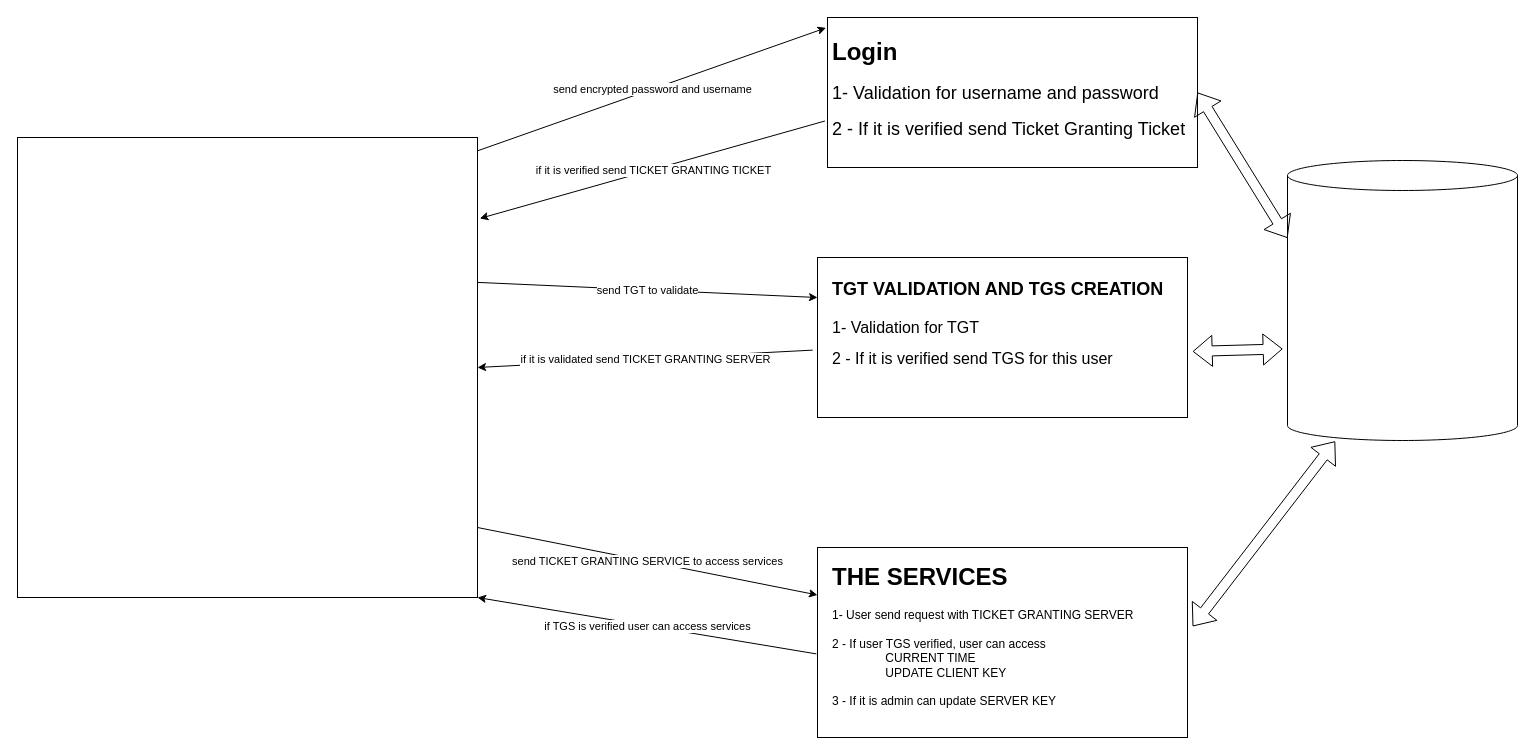
The diagram is 1535 pixels wide and 755 high, and some of its shapes have lost their labels. The shapes that lost their labels are listed below. From the top down, each one's box as (x1, y1, x2, y2) in pixels, then its label:
(1286, 160, 1518, 440): DATABASE USER INFORMATION ALL THE LOGS
(16, 136, 478, 598): ADMIN or USER
